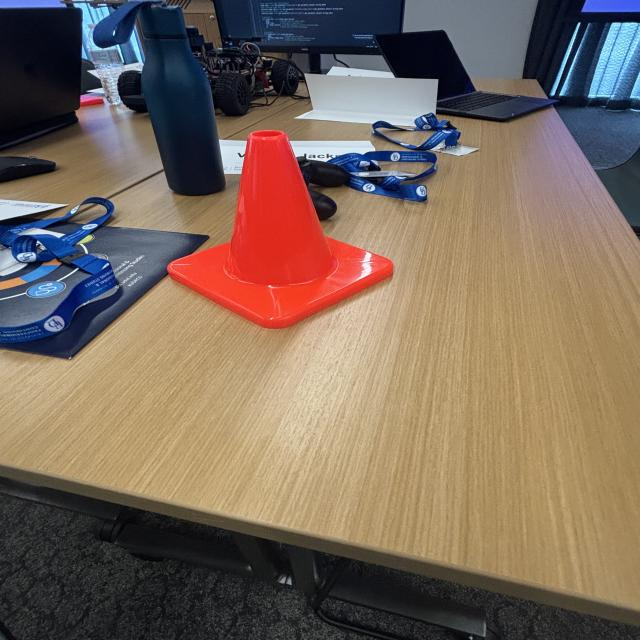Traffic Cone: (164, 126, 395, 336)
